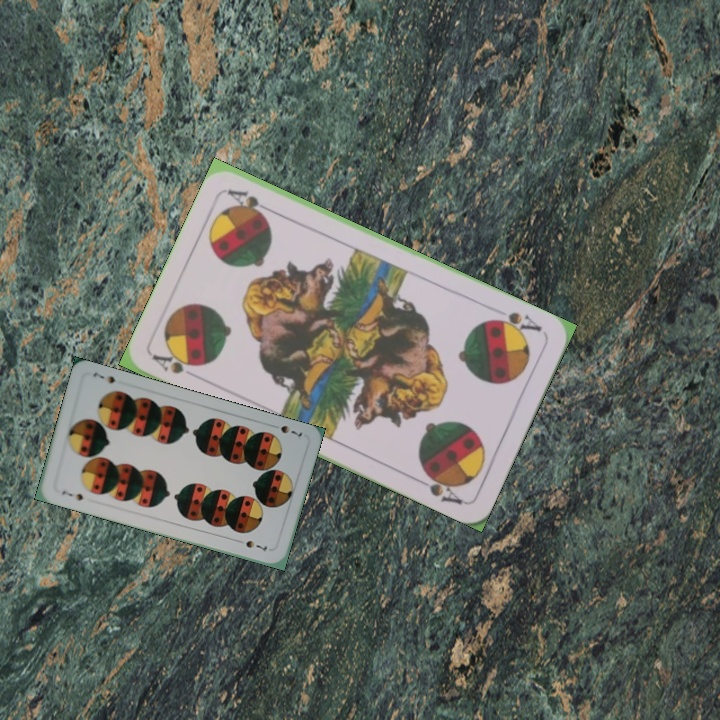S7: (267, 420, 305, 439), (58, 486, 86, 503)
SA: (486, 307, 545, 339), (148, 349, 201, 377)
